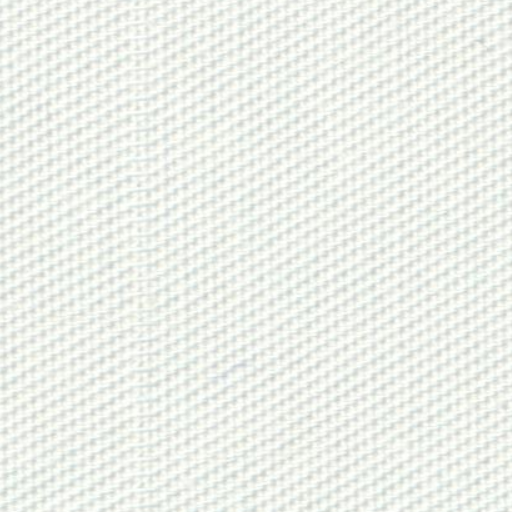TuoSha: (98, 8, 185, 506)
